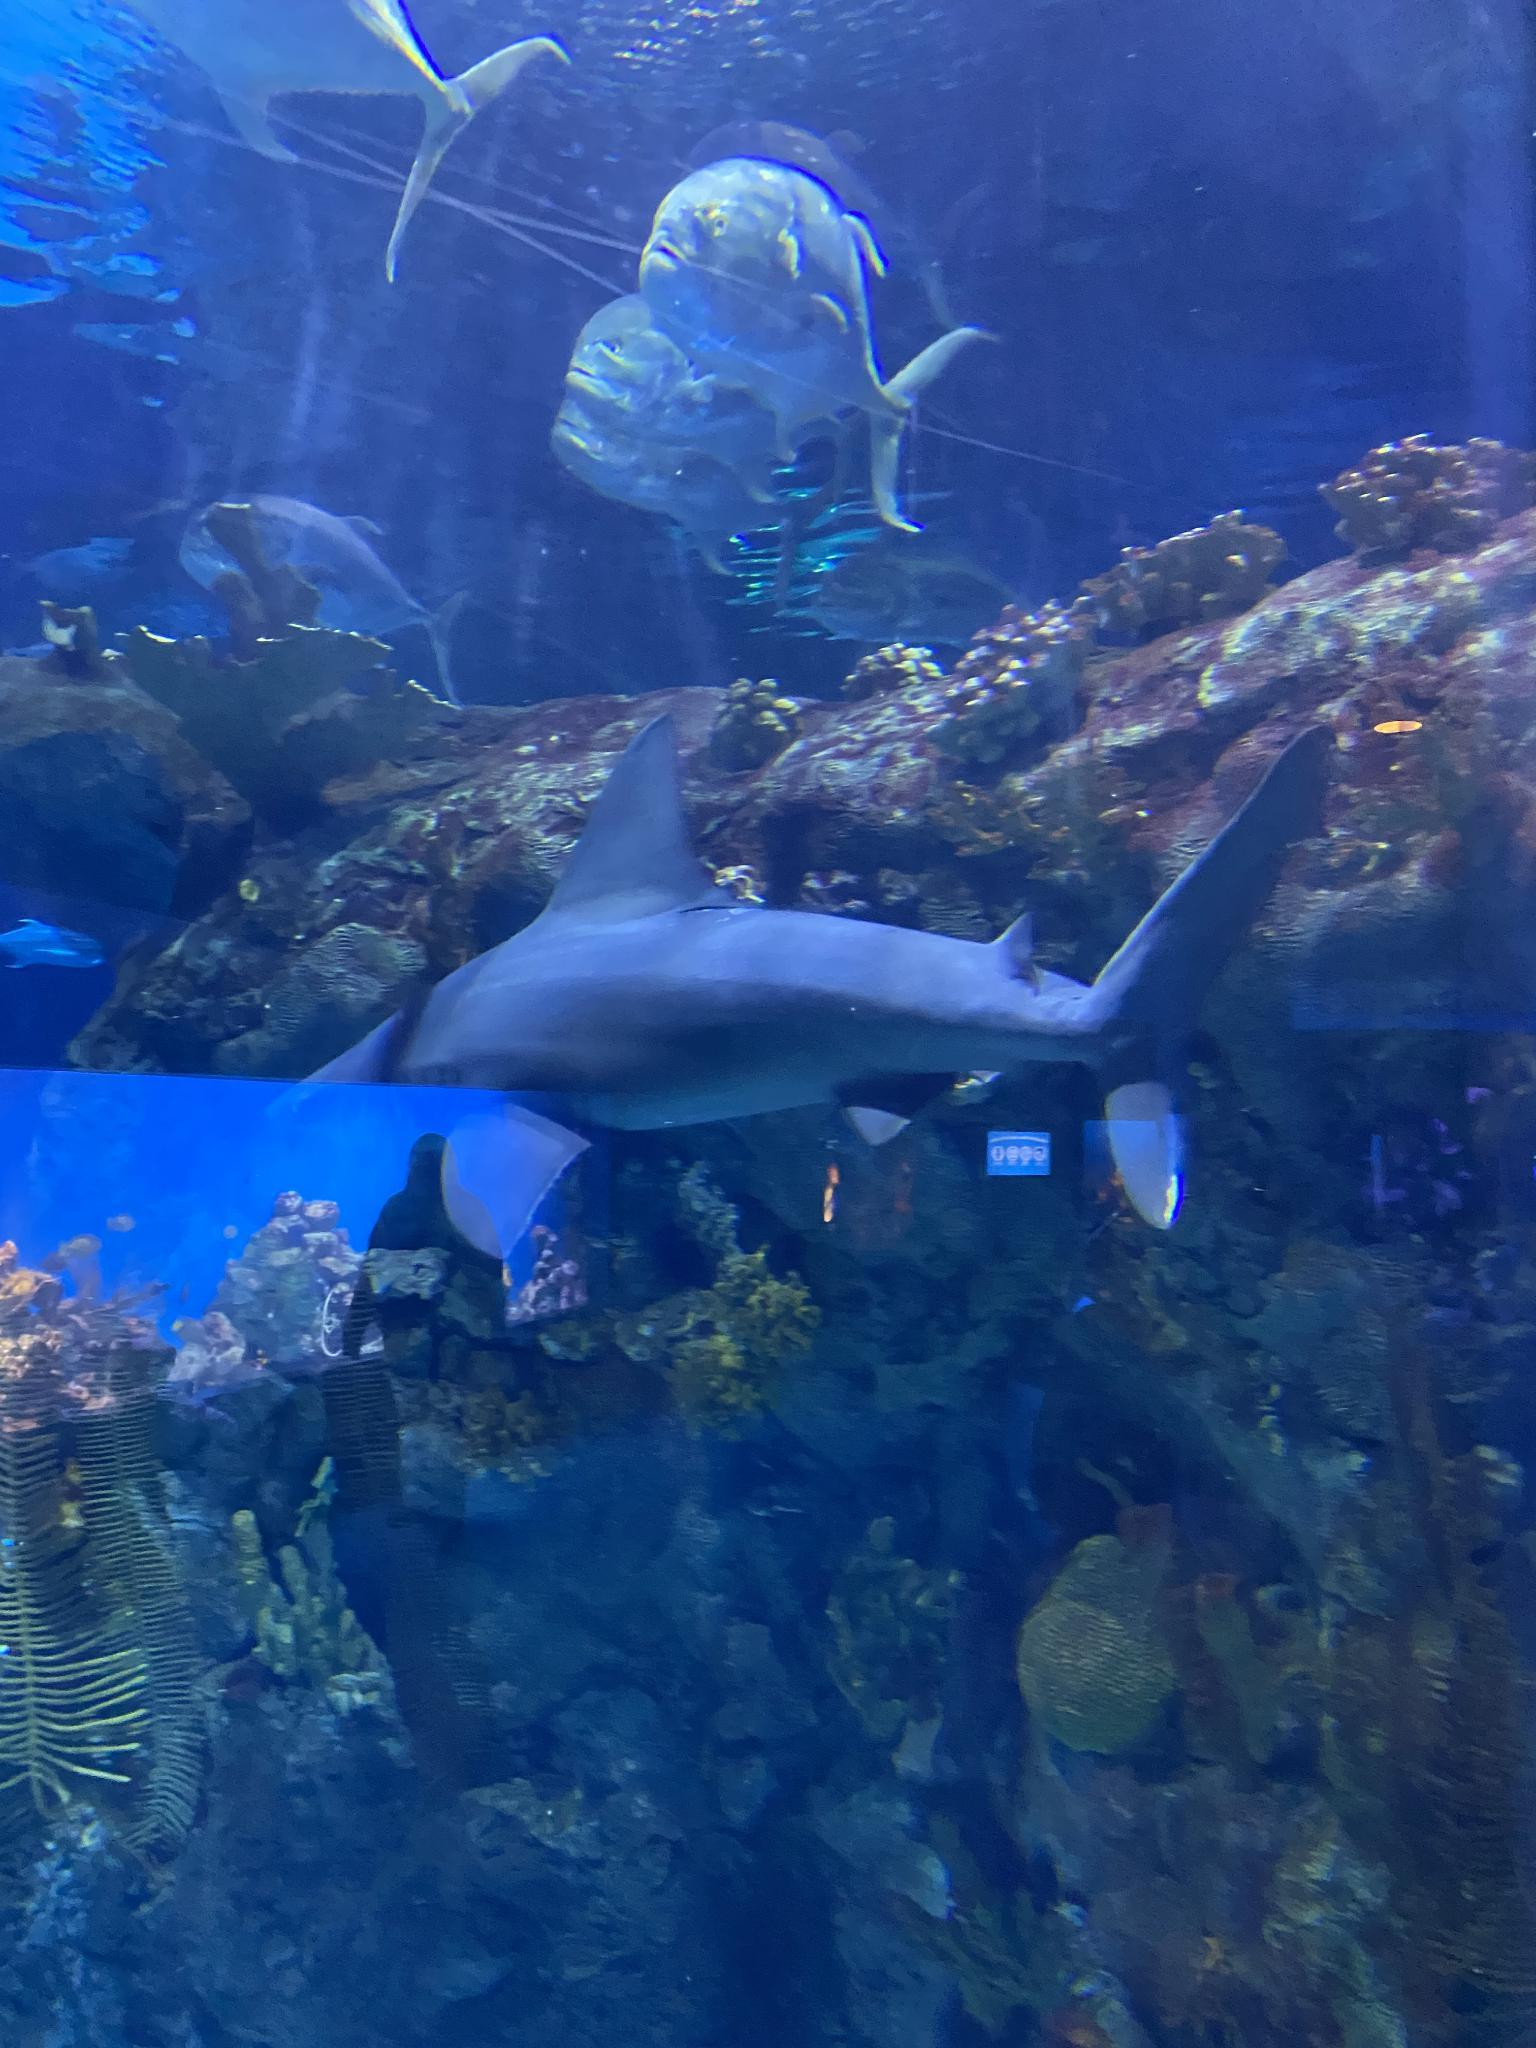fish: (113, 0, 574, 284), (641, 160, 979, 534), (189, 492, 465, 711), (549, 295, 803, 508), (0, 914, 102, 972)
shark: (263, 706, 1331, 1235)
